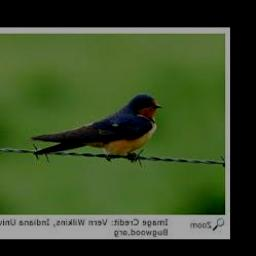Swallow: (31, 94, 162, 157)
